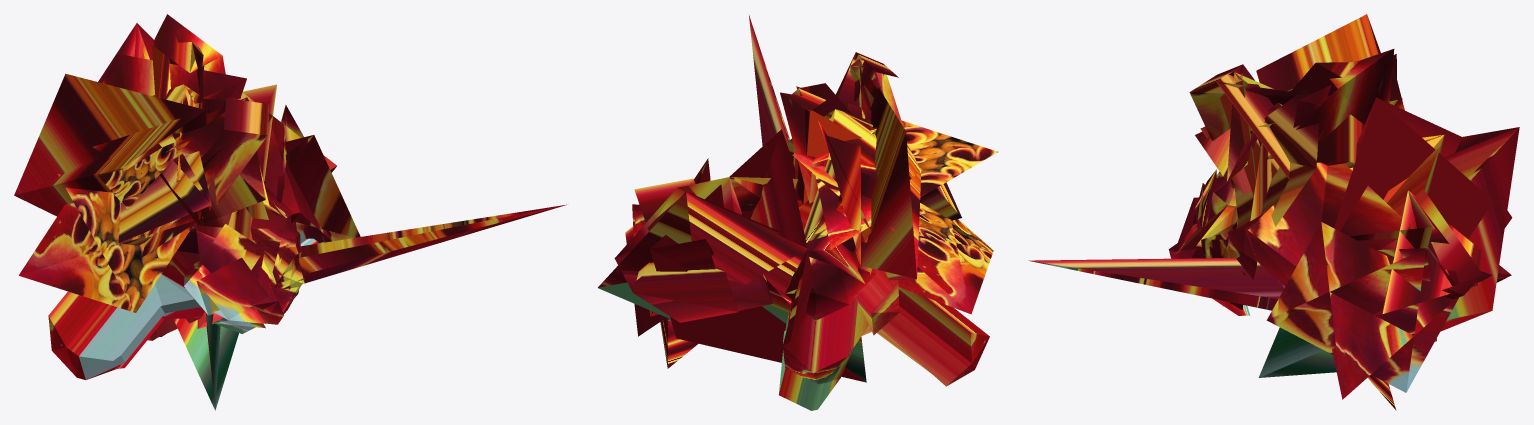
File: flor8.gltf
The picture shows the model from 3 angles, left to right: view 1: azimuth 30°, elevation 25°; view 2: azimuth 150°, elevation 25°; view 3: azimuth 270°, elevation 25°; orthographic projection. The views are drawn at different scales.
Visible parts, largest first — view 1: Icosphere; view 2: Icosphere; view 3: Icosphere.
Part boxes in pixels (x1=…): Icosphere: x1=14, y1=14, x2=566, y2=410; Icosphere: x1=598, y1=15, x2=997, y2=410; Icosphere: x1=1028, y1=14, x2=1519, y2=410.
Size of the model in its own units: 6.57 by 5.52 by 7.26.
Materials: 1 (1 with a texture image).
